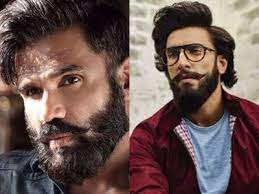b.y: (41, 124, 92, 181)
